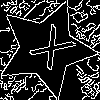X: (21, 23, 77, 79)
